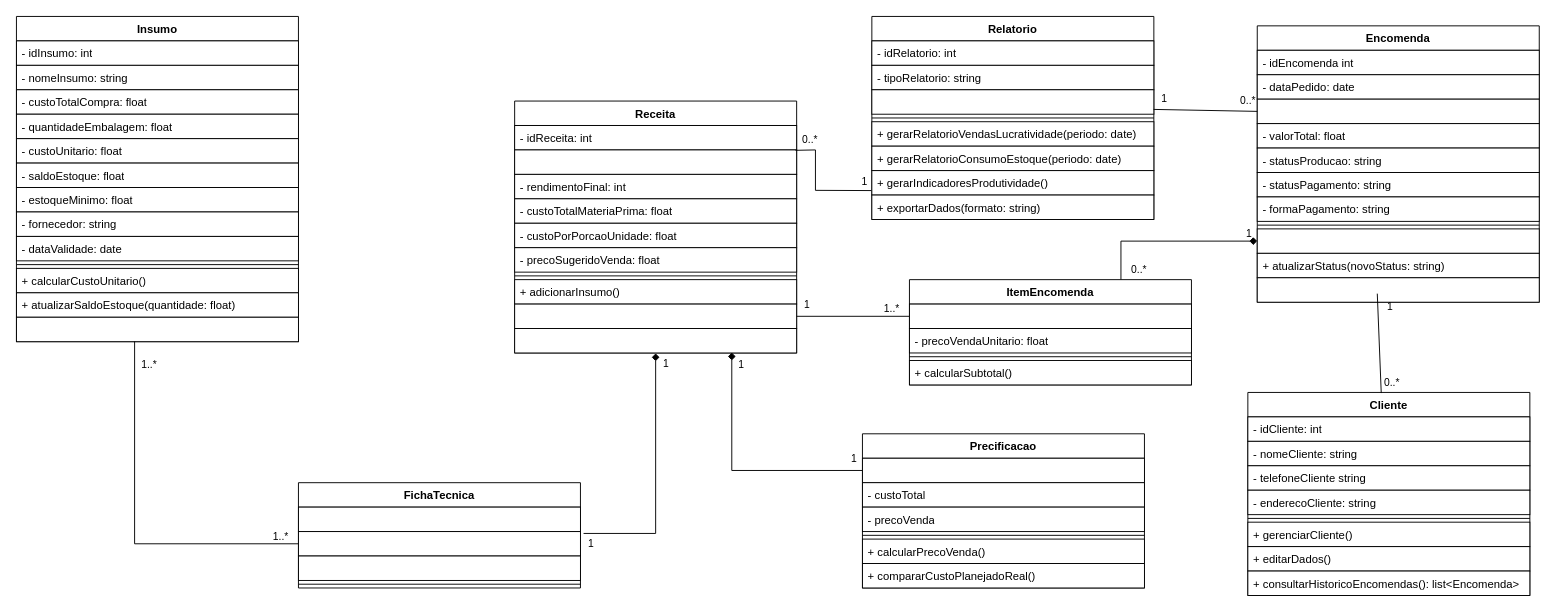
Image size: 1556x615. Some labels were removed from this diagram. Each missing label, with the box of its shape:
+ calcularCustoPorUnidade(): (514, 328, 797, 353)
+ calcularCustoTotal(): (514, 303, 797, 329)
+ calcularValorTotal(): (1256, 228, 1539, 253)
+ registrarPagamento(valor: float, forma: string): (1256, 277, 1539, 302)
+ verificarAlertaEstoqueMinimo(): boolean: (16, 316, 298, 342)
- custoCalculado: float: (298, 555, 580, 580)
- dataEntrega: date: (1256, 98, 1539, 124)
- dataRelatorio: date: (871, 89, 1154, 114)
- idFicha: int: (298, 506, 580, 532)
- iquantidadeUsada: int: (298, 531, 580, 556)
- margemLucro: (862, 457, 1144, 483)
- nomeProdutoFinal: string: (514, 149, 797, 174)
- quantidadePedida: int: (909, 303, 1191, 329)
